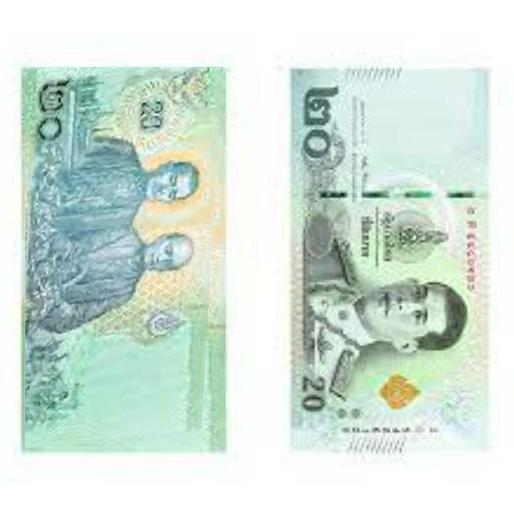20BahtTai: (26, 67, 225, 451)
